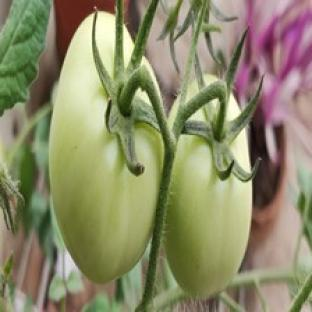Tomato: (49, 16, 162, 282), (165, 136, 252, 298)
